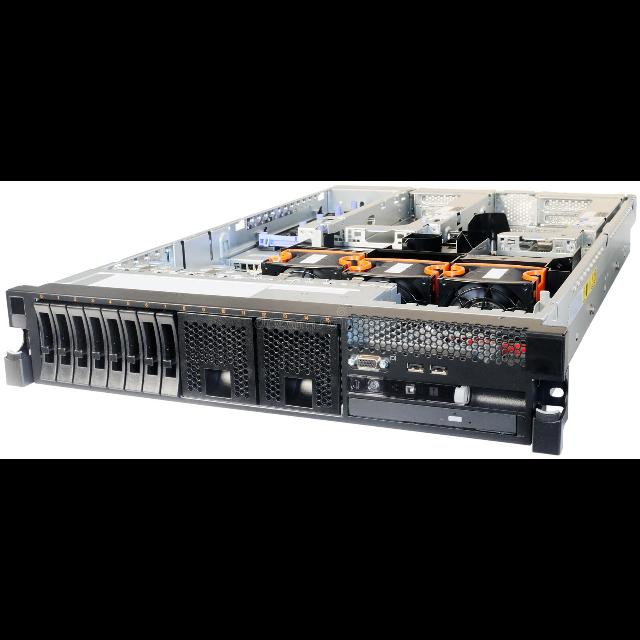Server: (10, 186, 640, 457)
